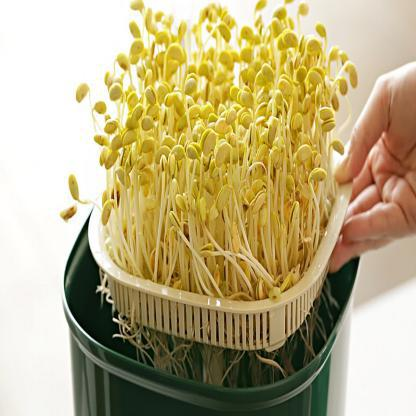bean sprouts: (108, 30, 340, 290)
